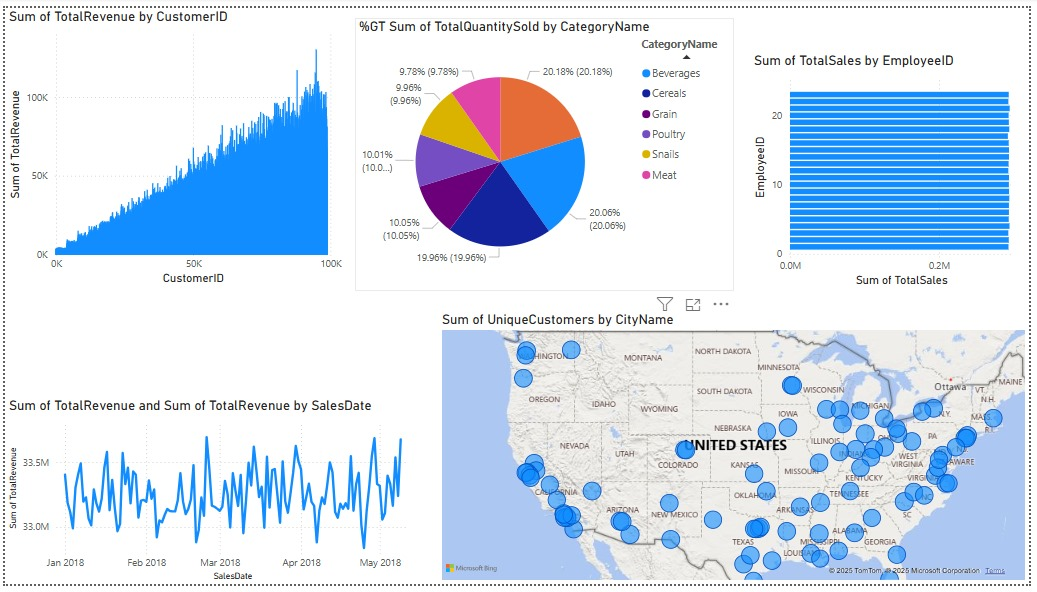

The page's visual inventory and layout, read from the dashboard file:
{"tool":"powerbi","page":{"name":"Page 1","canvas":[1280,720],"ordinal":0},"visuals":[{"type":"lineChart","fields":{"Category":["gold sales_over_time.SalesDate"],"Y":["Sum(gold sales_over_time.TotalRevenue)"]},"box":[0,485.8,525.6,233.9],"z":0},{"type":"clusteredColumnChart","fields":{"Category":["gold sales_summary_by_customer.CustomerID"],"Y":["Sum(gold sales_summary_by_customer.TotalRevenue)"]},"box":[0,0,426.7,350.8],"z":1},{"type":"pieChart","fields":{"Category":["gold top_products_by_revenue.CategoryName"],"Y":["Sum(gold top_products_by_revenue.TotalQuantitySold)"]},"box":[436.9,12.9,474.2,340.6],"z":2},{"type":"clusteredBarChart","fields":{"Category":["gold employee_performance.EmployeeID"],"Y":["Sum(gold employee_performance.TotalSales)"]},"box":[931.7,55.3,348.3,298.2],"z":3},{"type":"map","fields":{"Category":["gold revenue_by_country.CityName"],"Size":["Sum(gold revenue_by_country.UniqueCustomers)"]},"box":[541,379.1,739,340.6],"z":4}]}

Visuals, with their boxes in screenshot pixels (x1, y1, x2, y2), scaled from the page's 1280x720 canvas onto the 1037x592 screenshot:
lineChart - gold sales_over_time.SalesDate x Sum(gold sales_over_time.TotalRevenue): (x1=0, y1=399, x2=426, y2=591)
clusteredColumnChart - gold sales_summary_by_customer.CustomerID x Sum(gold sales_summary_by_customer.TotalRevenue): (x1=0, y1=0, x2=346, y2=288)
pieChart - gold top_products_by_revenue.CategoryName x Sum(gold top_products_by_revenue.TotalQuantitySold): (x1=354, y1=11, x2=738, y2=291)
clusteredBarChart - gold employee_performance.EmployeeID x Sum(gold employee_performance.TotalSales): (x1=755, y1=45, x2=1036, y2=291)
map - gold revenue_by_country.CityName x Sum(gold revenue_by_country.UniqueCustomers): (x1=438, y1=312, x2=1036, y2=591)
